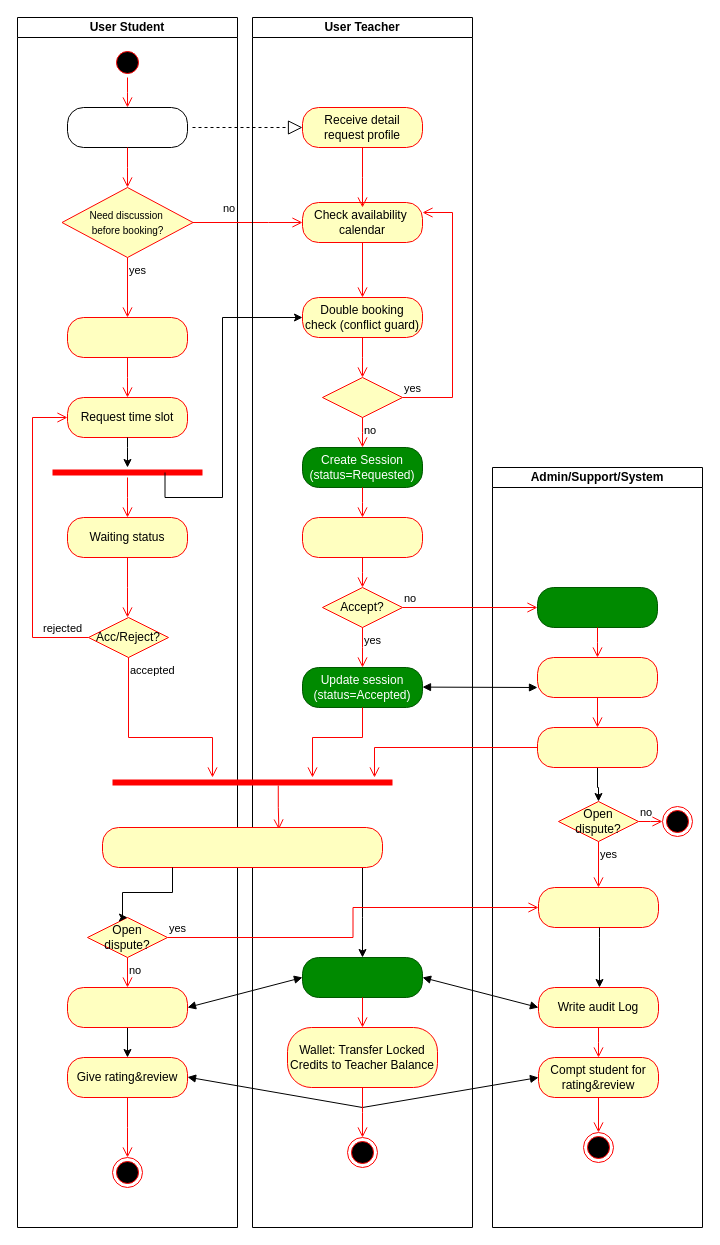
Image size: 720x1245. Some labels were removed from this diagram. The centre of each missing label's shape, as x and y in pixels:
conflict?: the point at 362,397
Enable Video Link Meeting: the point at 597,747
Learning session end: the point at 127,1007
Notify Teacher: the point at 362,537
Pre-booking Chat: the point at 127,337
Resolve dispute: the point at 598,907
Start learning session: the point at 242,847
Update session (status=Finished): the point at 362,977
Update session (status=Rejected): the point at 597,607
Wallet: Lock credits in escrow: the point at 597,677
